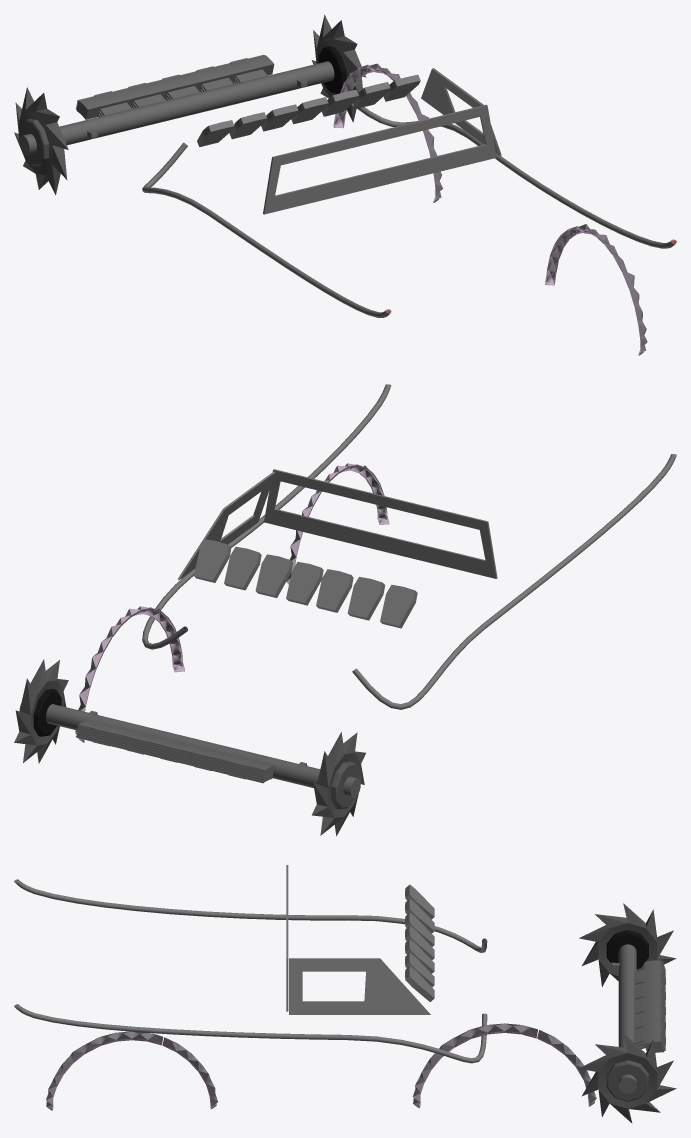
File: upgrades2.fbx
The picture shows the model from 3 angles, top to bottom: view 1: azimuth 30°, elevation 25°; view 2: azimuth 150°, elevation 25°; view 3: azimuth 270°, elevation 25°; orthographic projection. The views are drawn at different scales.
Parts seen in each view (by area): view 1: Cylinder, Cube, Cylinder.002, Gear.007, BezierCurve.001, Cube.001, Cube.004, Cube.003; view 2: Gear.007, Cylinder, Cube, Cylinder.002, BezierCurve.001, Cube.004, Cube.003, Cube.001; view 3: Cylinder.002, BezierCurve.001, Cube.004, Cylinder, Gear.007, Cube.003, Cube.001, Cube.
Boxes of the visible parts, bbox=[...] form: Cylinder: bbox=[19, 54, 334, 155]; Cube: bbox=[263, 104, 496, 214]; Cylinder.002: bbox=[14, 14, 366, 195]; Gear.007: bbox=[197, 74, 420, 146]; BezierCurve.001: bbox=[142, 103, 676, 317]; Cube.001: bbox=[545, 224, 647, 355]; Cube.004: bbox=[421, 68, 501, 155]; Cube.003: bbox=[333, 63, 442, 202]; Gear.007: bbox=[194, 539, 417, 628]; Cylinder: bbox=[19, 703, 360, 797]; Cube: bbox=[264, 469, 497, 578]; Cylinder.002: bbox=[14, 659, 365, 836]; BezierCurve.001: bbox=[142, 384, 676, 709]; Cube.004: bbox=[177, 471, 275, 579]; Cube.003: bbox=[75, 606, 184, 742]; Cube.001: bbox=[286, 463, 389, 584]; Cylinder.002: bbox=[579, 903, 676, 1123]; BezierCurve.001: bbox=[14, 879, 487, 1063]; Cube.004: bbox=[289, 958, 430, 1014]; Cylinder: bbox=[611, 944, 665, 1093]; Gear.007: bbox=[405, 884, 434, 1001]; Cube.003: bbox=[412, 1023, 596, 1108]; Cube.001: bbox=[46, 1031, 217, 1110]; Cube: bbox=[286, 865, 288, 1011].
Bounding box in the file's own units: 261 × 123 × 504.
2 materials, 2 textured.
